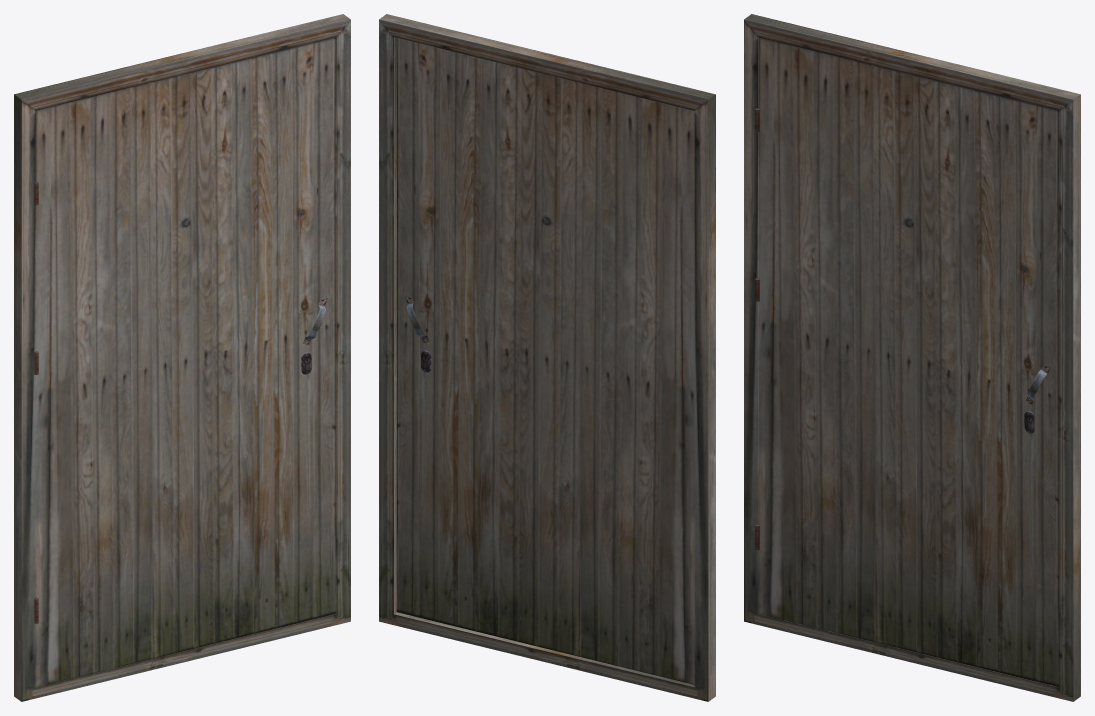
Rendered from Door_05.FBX.
3 renders of one model, left to right at view 1: azimuth 30°, elevation 25°; view 2: azimuth 150°, elevation 25°; view 3: azimuth 330°, elevation 25°, orthographic.
Parts seen in each view (by area): view 1: Door_05, Door_05_Frame; view 2: Door_05, Door_05_Frame; view 3: Door_05, Door_05_Frame.
Part boxes in pixels (box(x1,y1,x2,y2)): Door_05: box(34, 37, 335, 687); Door_05_Frame: box(14, 14, 350, 701); Door_05: box(396, 37, 694, 684); Door_05_Frame: box(379, 14, 715, 701); Door_05: box(755, 37, 1058, 686); Door_05_Frame: box(744, 14, 1080, 701).
Size of the model in its own units: 130 by 7.28 by 228.
Materials: 3 (3 with a texture image).
